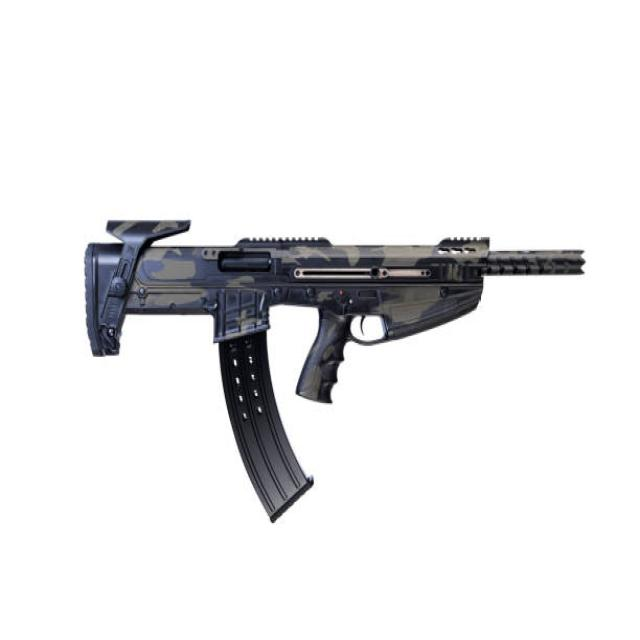rifle: (76, 196, 596, 567)
